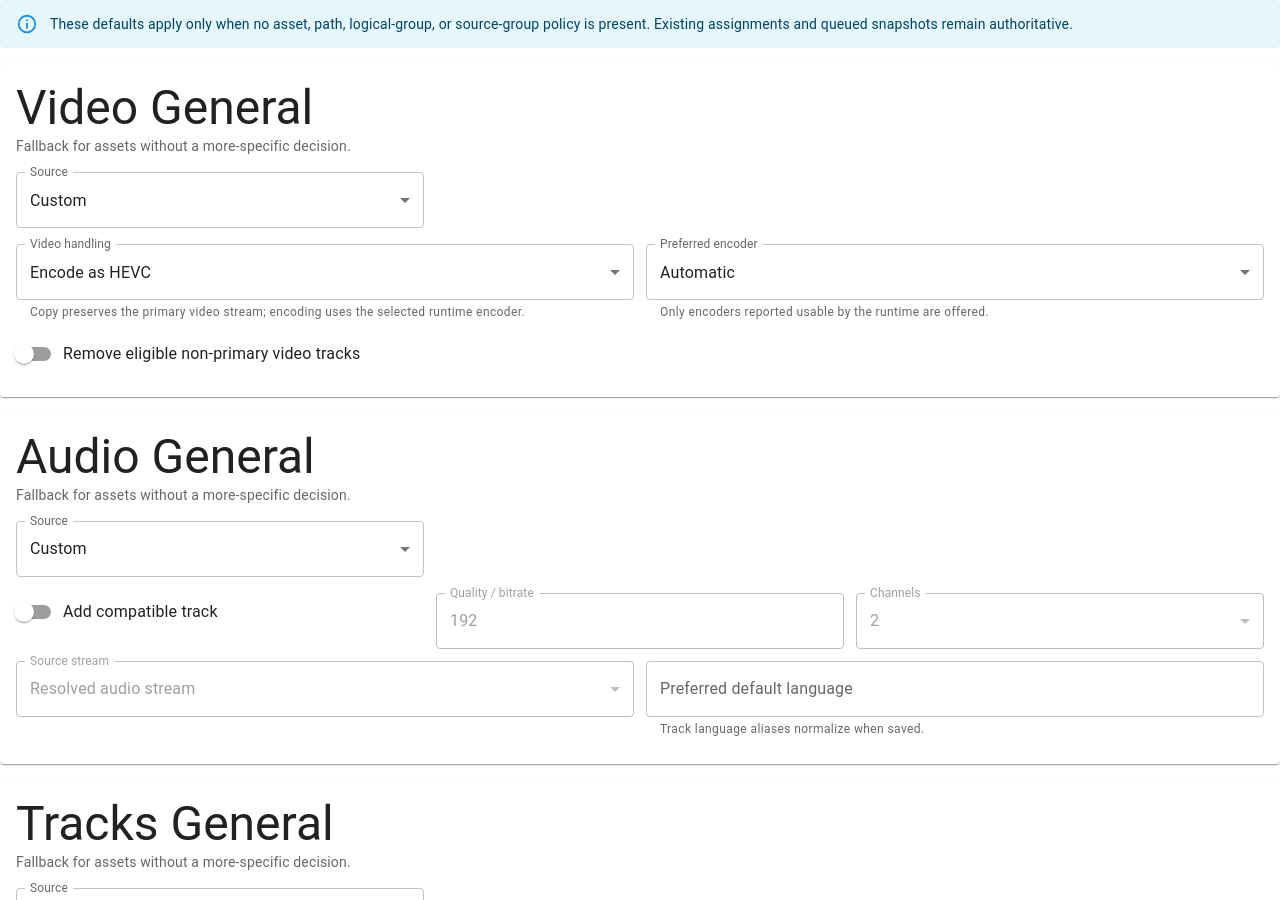
AssetDefaultsCard › offers only encoders reported usable by the runtime
Click the dropdown named "Preferred encoder" at (698, 272), box [660,262,735,282]
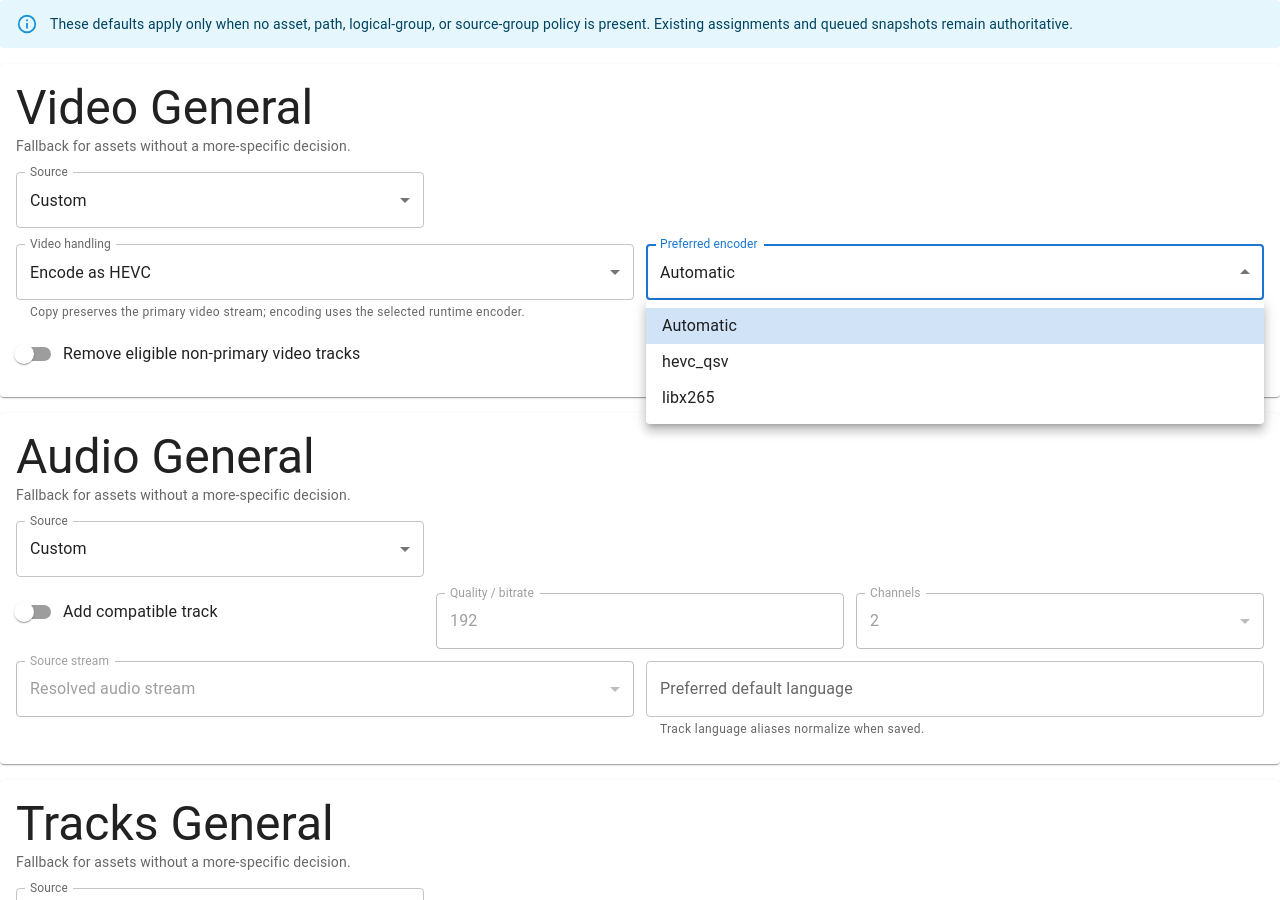
Now the option "hevc_qsv" is shown, box [662,352,729,371]
Now the option "libx265" is shown, box [662,388,715,407]
